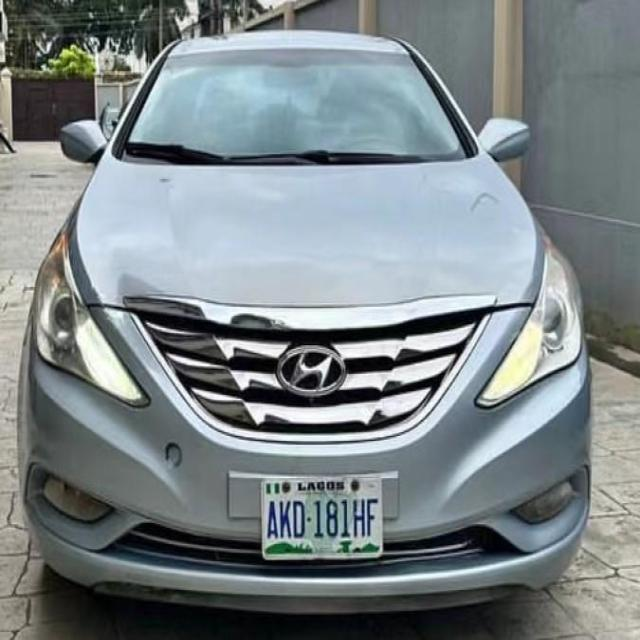Nigerian License Plate - vdataset benjamin-daria: (258, 470, 387, 564)
